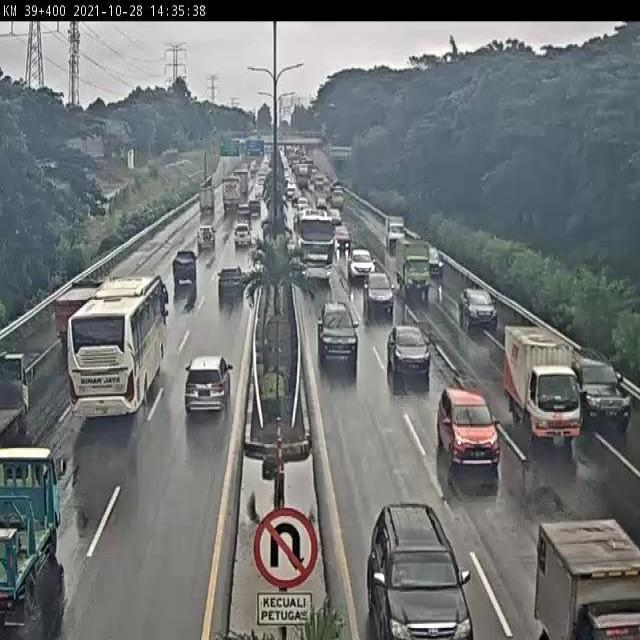big bus: (64, 276, 164, 425), (295, 205, 335, 276)
big truck: (222, 176, 245, 216)
car: (373, 501, 471, 640), (535, 520, 640, 640), (437, 383, 498, 461), (572, 356, 629, 424), (185, 354, 231, 414), (316, 294, 357, 358), (384, 320, 426, 372), (459, 290, 498, 330), (359, 269, 392, 308), (215, 271, 246, 305), (346, 248, 372, 276), (195, 228, 216, 253), (232, 227, 253, 250), (429, 248, 443, 277), (334, 225, 350, 247), (237, 207, 250, 225), (328, 208, 341, 224), (247, 201, 260, 216)
small truck: (0, 448, 61, 616), (503, 326, 581, 438), (0, 354, 30, 442), (398, 240, 430, 305), (53, 284, 100, 323), (170, 253, 196, 291), (384, 216, 404, 247), (328, 180, 345, 208), (198, 189, 214, 215)
